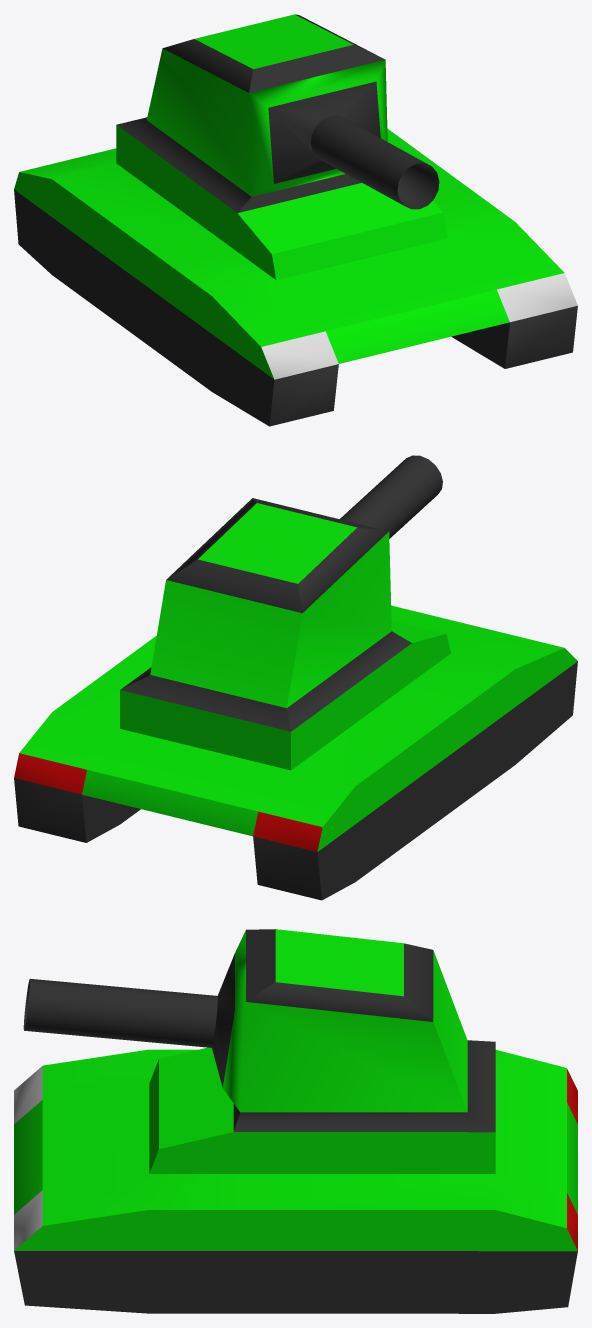
Rendered from WarHeavyGreen.fbx.
3 views of the same model, one above another, from view 1: azimuth 30°, elevation 25°; view 2: azimuth 150°, elevation 25°; view 3: azimuth 270°, elevation 25° (orthographic). The views are drawn at different scales.
Parts seen in each view (by area): view 1: pCylinder2; view 2: pCylinder2; view 3: pCylinder2.
Boxes of the visible parts, box(x1,y1,x2,y2) form: pCylinder2: box(14, 14, 577, 426); pCylinder2: box(14, 455, 577, 900); pCylinder2: box(14, 929, 577, 1313).
Size of the model in its own units: 5.02 by 4.05 by 7.46.
